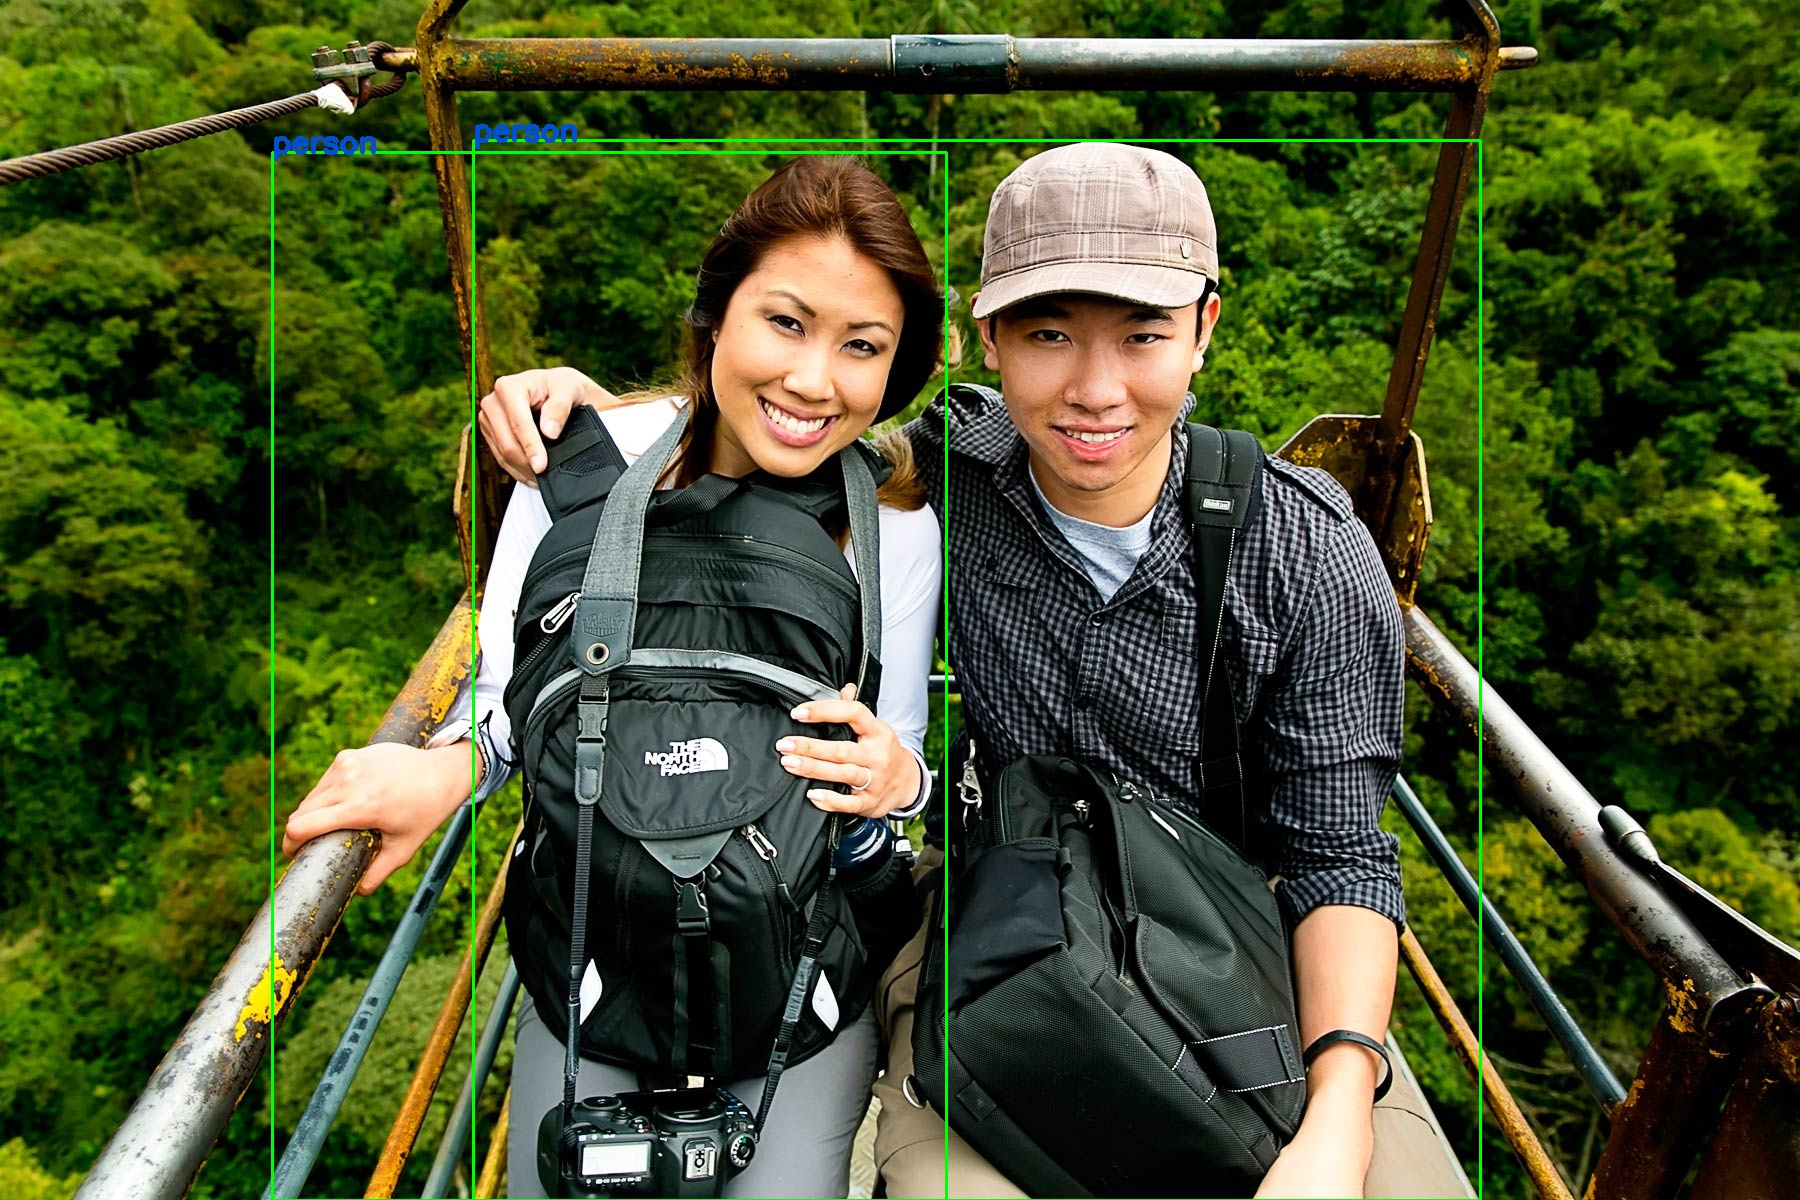person: (473, 139, 1479, 1199), (271, 151, 945, 1199)
